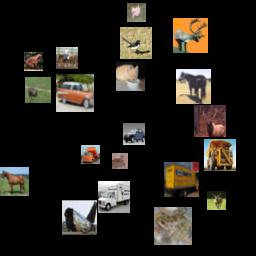airplane: (62, 200, 97, 235)
automobile: (56, 74, 94, 112), (123, 123, 145, 145)
bird: (120, 27, 152, 59), (25, 77, 51, 103)
cat: (116, 62, 145, 91), (112, 153, 128, 169)
deer: (173, 18, 208, 53), (194, 105, 226, 137), (207, 191, 226, 210)
dog: (127, 3, 146, 22)
frog: (154, 207, 192, 245), (24, 52, 43, 71)
truck: (164, 162, 199, 197), (98, 181, 130, 213), (204, 139, 236, 171), (81, 145, 100, 164)
